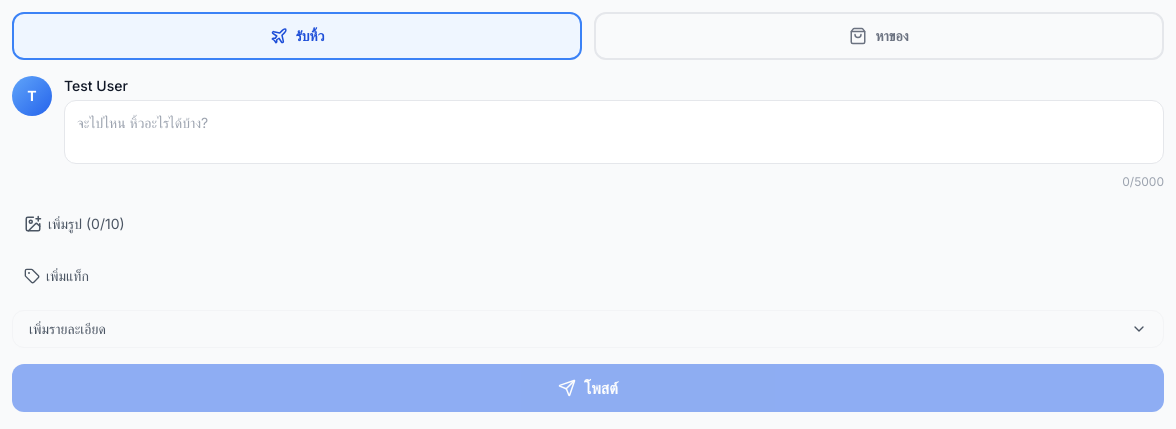
it: CreatePostForm › enables submit when content is entered
The image size is (1176, 429).
Type "Going to Japan!" into the text box.
click(614, 132); type("Going to Japan!")  # box [64,100,1164,164]
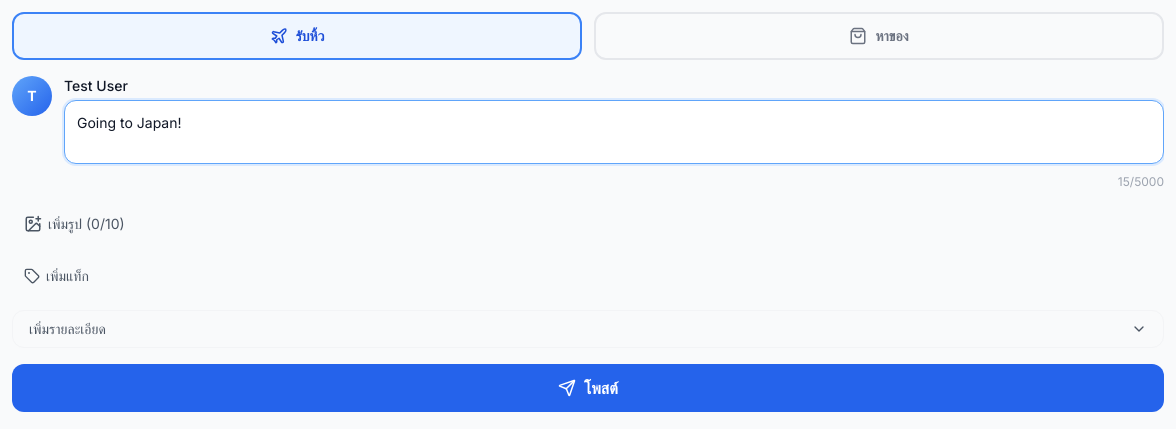
Expected: the button "โพสต์" is enabled, [12,364,1164,412]
